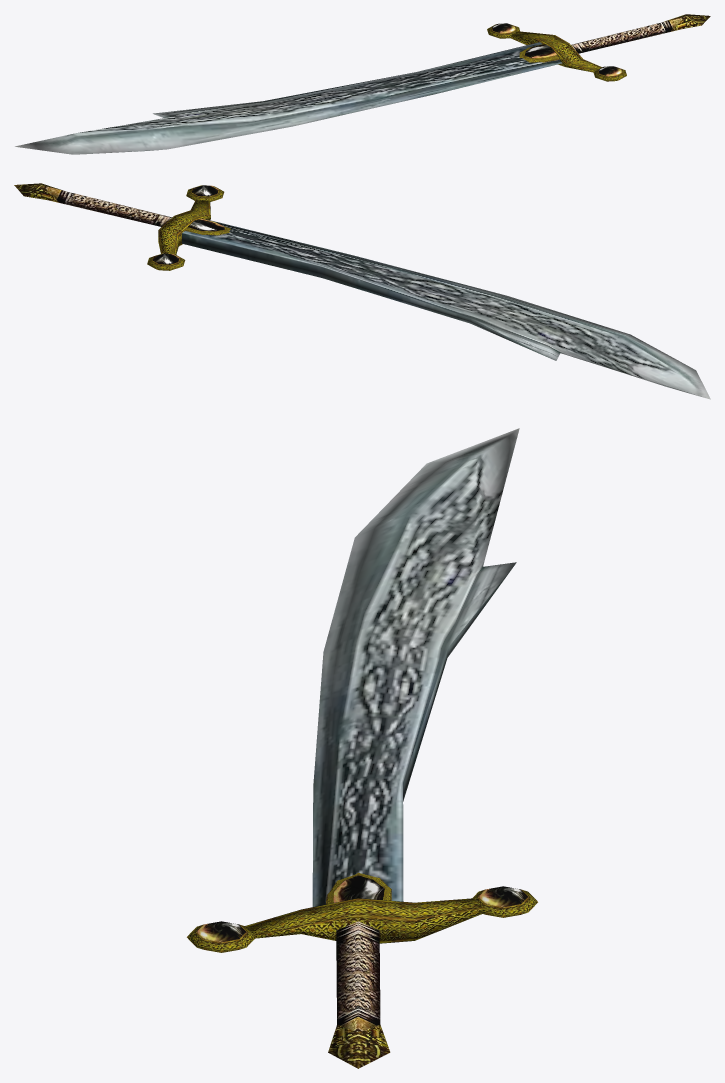
The model's file is ITMW_070_2H_SWORD_09.glb.
3 views of the same model, one above another, from view 1: azimuth 30°, elevation 25°; view 2: azimuth 150°, elevation 25°; view 3: azimuth 270°, elevation 25° (orthographic). The views are drawn at different scales.
Visible parts, largest first — view 1: Mesh; view 2: Mesh; view 3: Mesh.
Part boxes in pixels (bbox=[...]): Mesh: bbox=[15, 14, 710, 154]; Mesh: bbox=[14, 183, 710, 399]; Mesh: bbox=[187, 428, 537, 1068].
Size of the model in its own units: 1.48 by 0.0445 by 0.344.
Materials: 3 (3 with a texture image).
